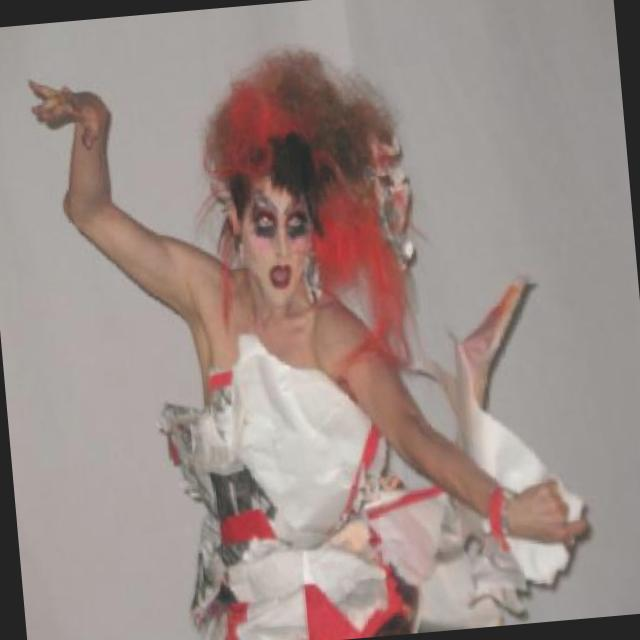Person: (64, 27, 545, 640)
